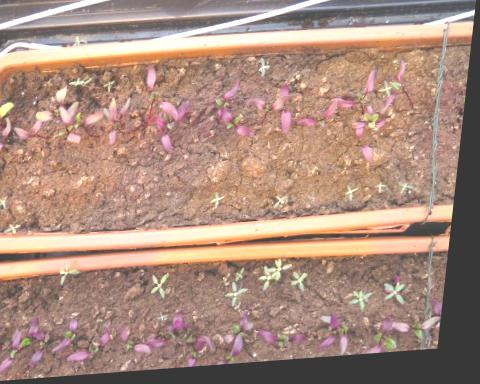weed: (227, 283, 257, 313), (351, 292, 379, 319), (154, 274, 177, 302), (294, 272, 316, 298), (253, 59, 273, 83), (398, 181, 421, 201), (211, 192, 231, 214), (346, 187, 365, 208), (374, 184, 396, 201), (5, 221, 25, 237), (0, 193, 16, 210), (239, 270, 251, 285)
